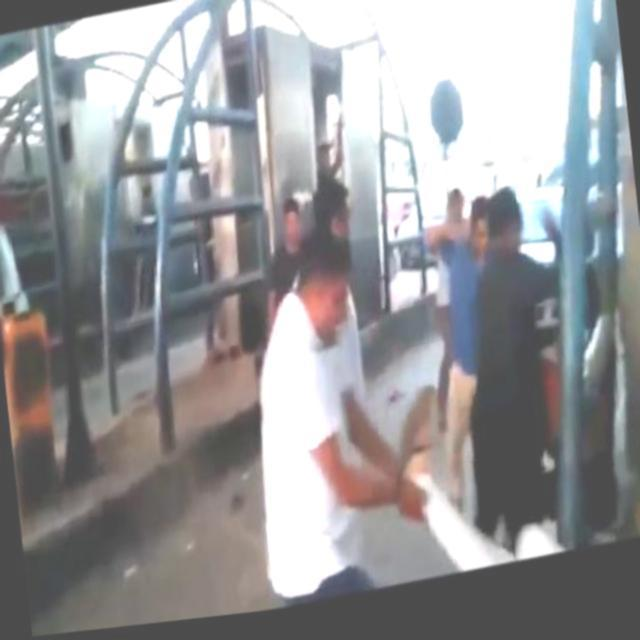fight: (413, 182, 580, 480)
